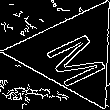M_NE: (34, 22, 110, 86)
